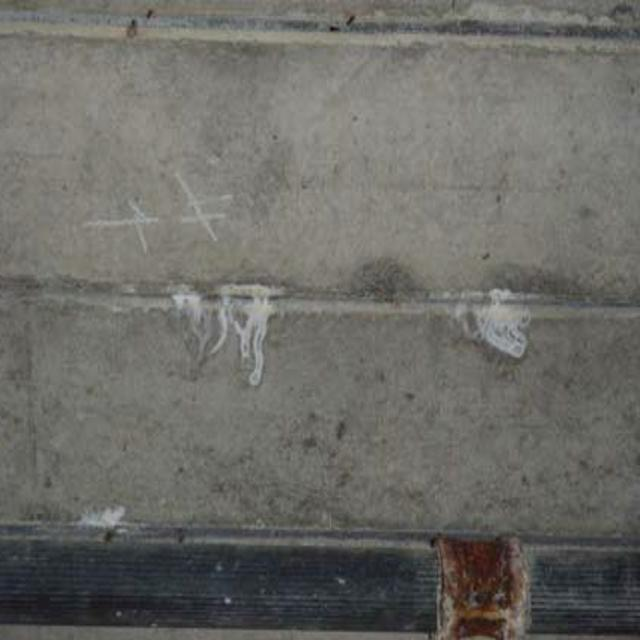corrosion: (422, 514, 544, 640)
freelime: (162, 253, 288, 401), (444, 273, 559, 380)
